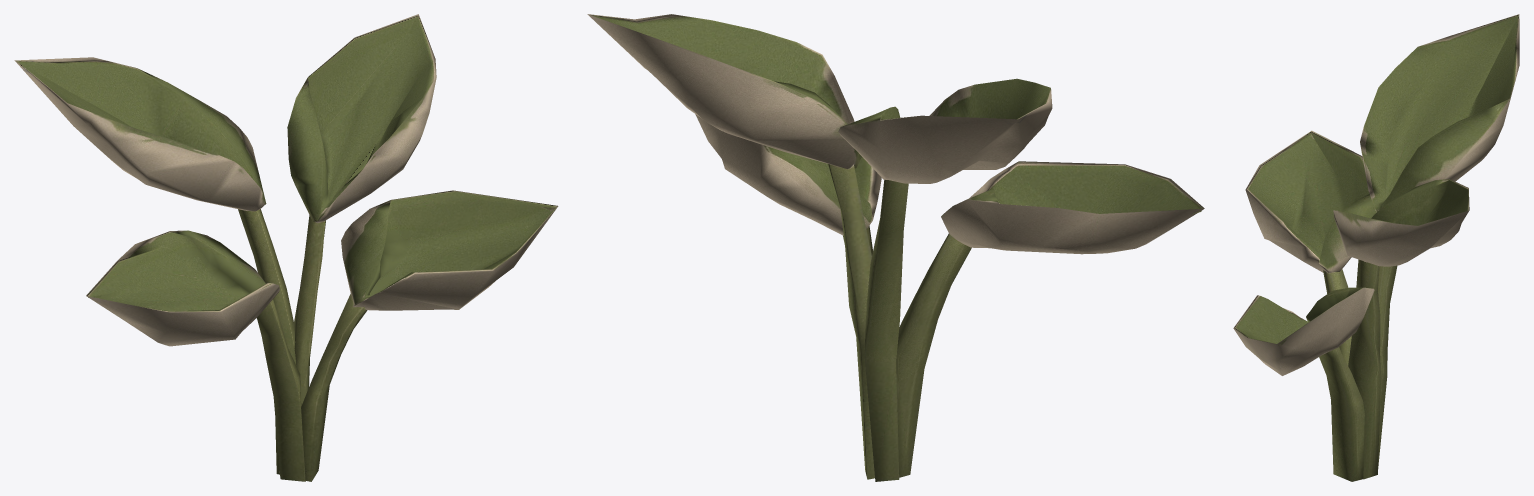
The model's file is AW-WATERPLANT-001-v0.2.glb.
3 renders of one model, left to right at view 1: azimuth 30°, elevation 25°; view 2: azimuth 150°, elevation 25°; view 3: azimuth 270°, elevation 25°, orthographic. The views are drawn at different scales.
Parts seen in each view (by area): view 1: AW-WATERPLANT-001_meter_ground_pivot; view 2: AW-WATERPLANT-001_meter_ground_pivot; view 3: AW-WATERPLANT-001_meter_ground_pivot.
Part boxes in pixels (x1,y1,x2,y2): AW-WATERPLANT-001_meter_ground_pivot: [14, 14, 558, 481]; AW-WATERPLANT-001_meter_ground_pivot: [587, 14, 1204, 481]; AW-WATERPLANT-001_meter_ground_pivot: [1233, 14, 1519, 481].
Size of the model in its own units: 1.44 by 1.2 by 0.8407.
1 material, 1 textured.
